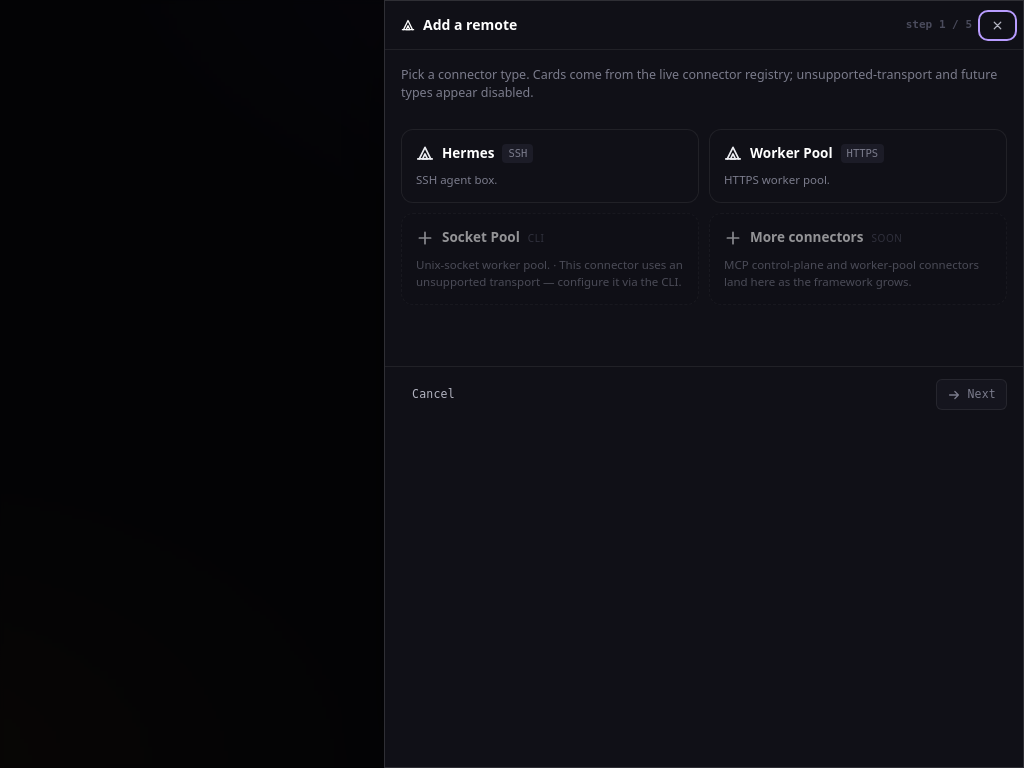
Test case: AddRemoteWizard — transport branching › ssh connectors present the TOFU host-key step
Click the text "Hermes" at [468, 153], box top-left (442, 144), bottom-right (494, 163)
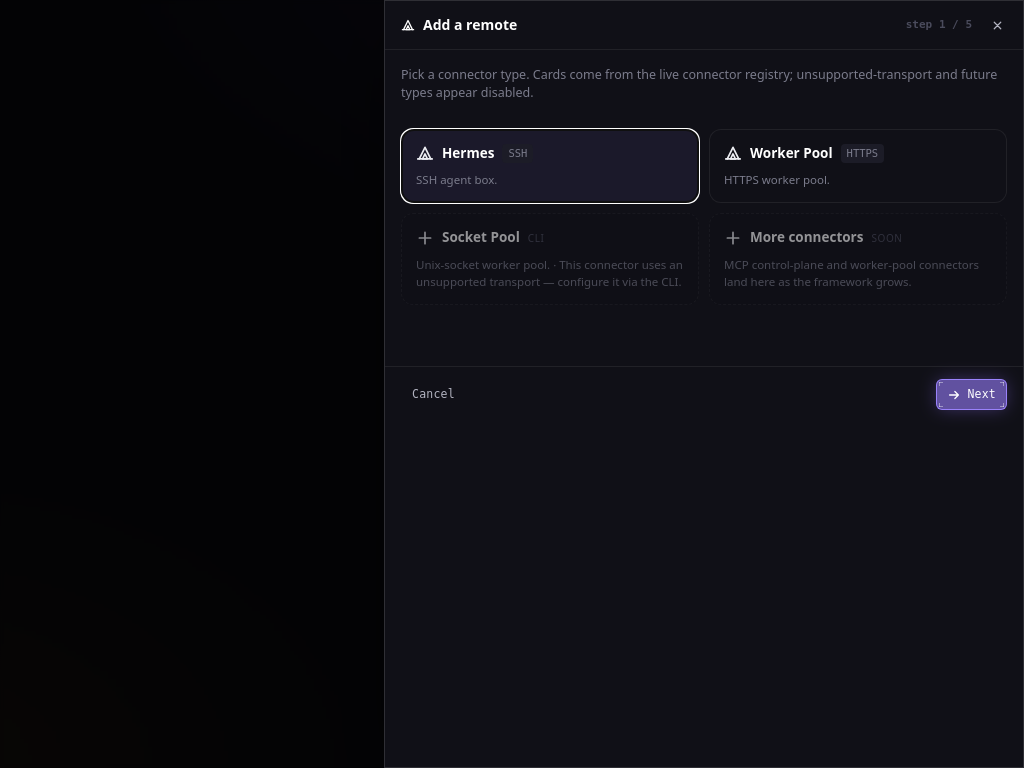
Click the button "Next" at [972, 395], box top-left (936, 379), bottom-right (1007, 410)
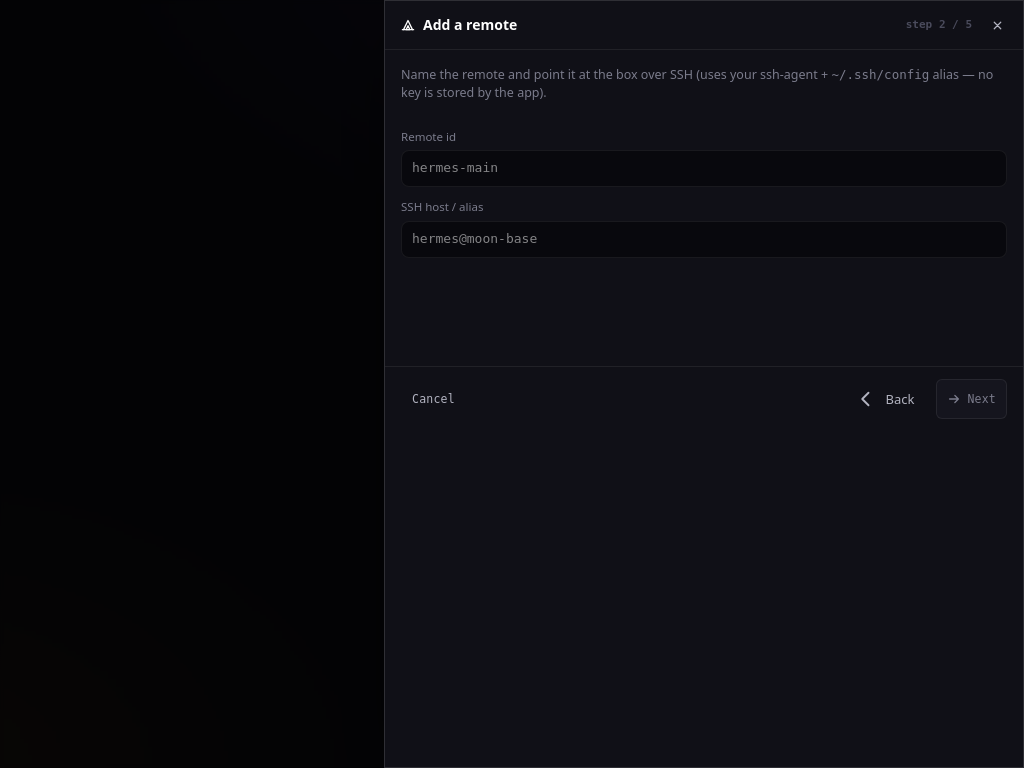
Type "box" into the field with placeholder "hermes-main" at [704, 169], box top-left (401, 150), bottom-right (1007, 187)
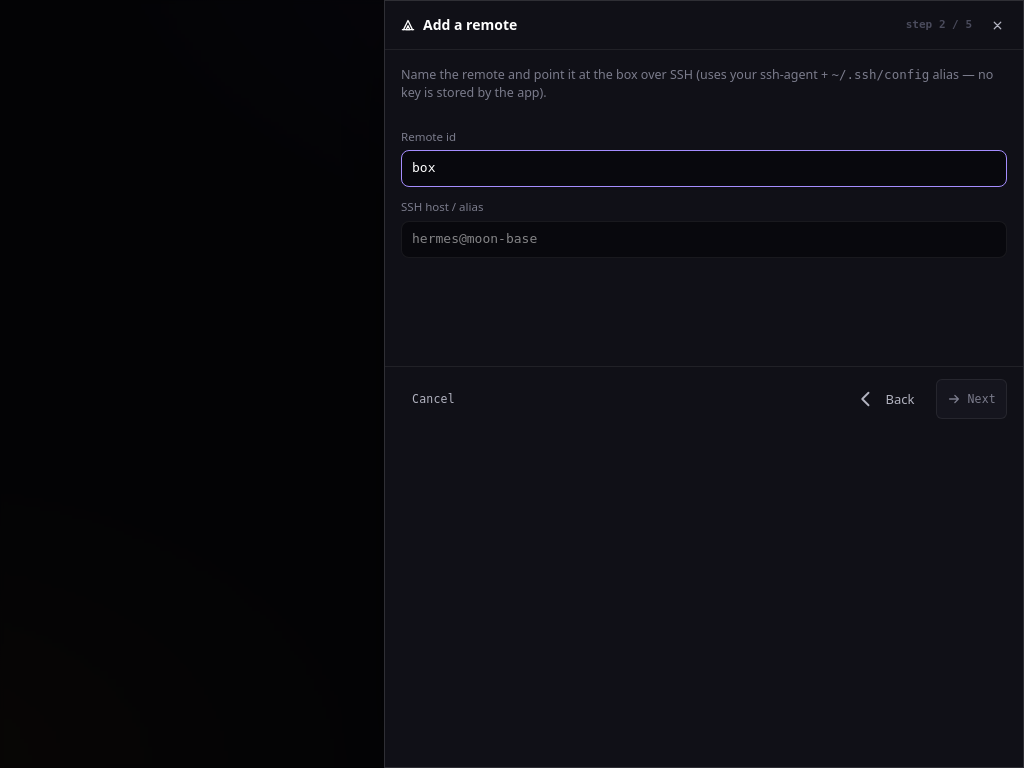
Type "me@box" into the field with placeholder "hermes@moon-base" at [704, 239], box top-left (401, 221), bottom-right (1007, 258)
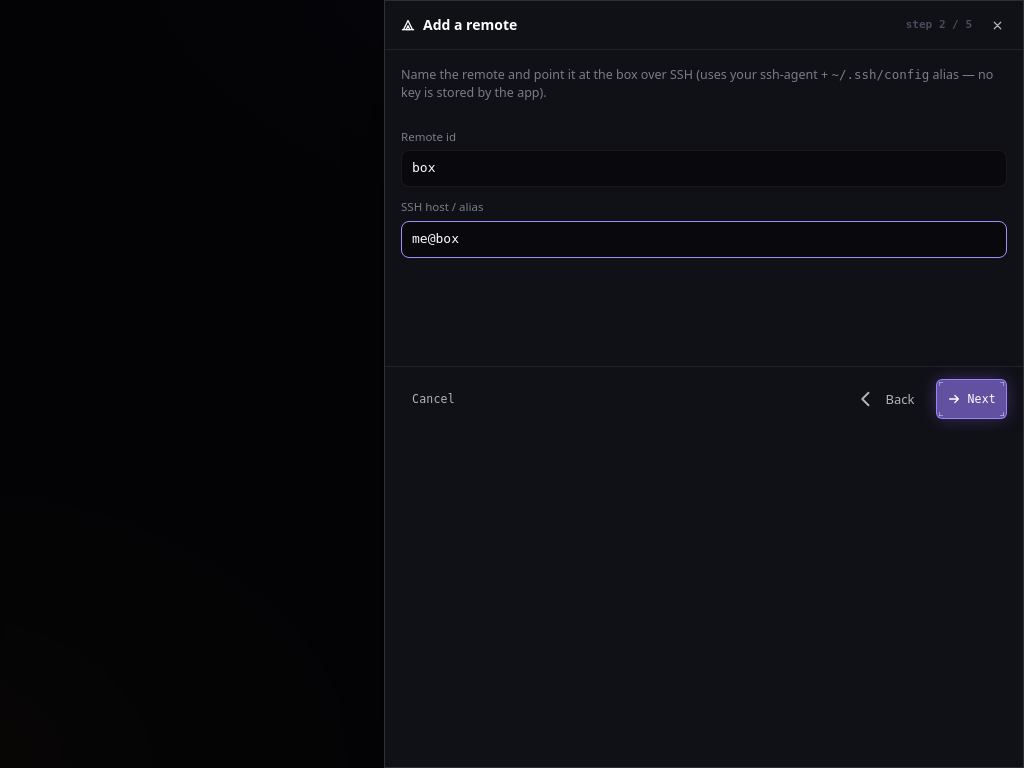
Click the button "Next" at [972, 399], box top-left (936, 379), bottom-right (1007, 419)
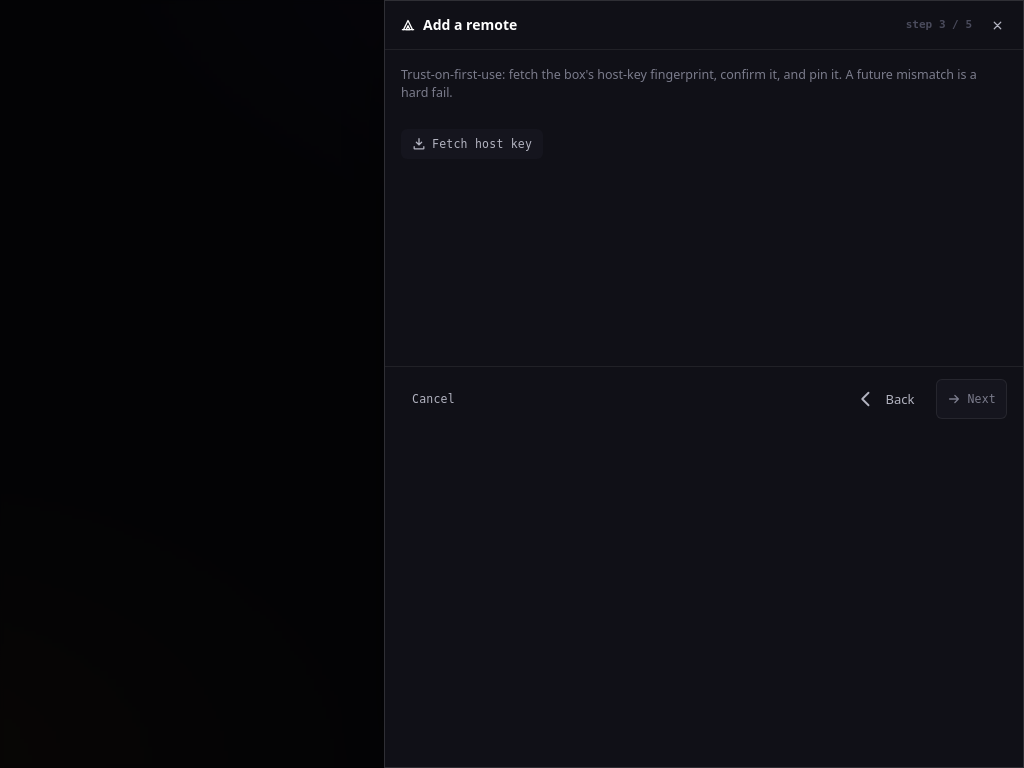
Expected: the button "Fetch host key" is shown, top-left (401, 128), bottom-right (543, 159)
